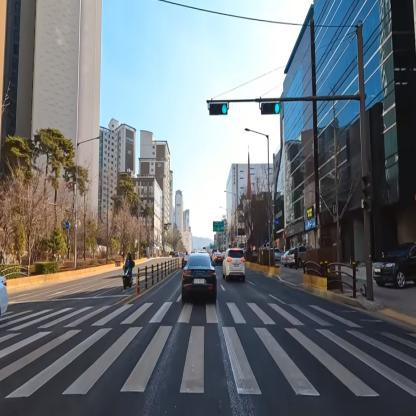Green: (261, 98, 281, 113), (209, 102, 227, 117)
